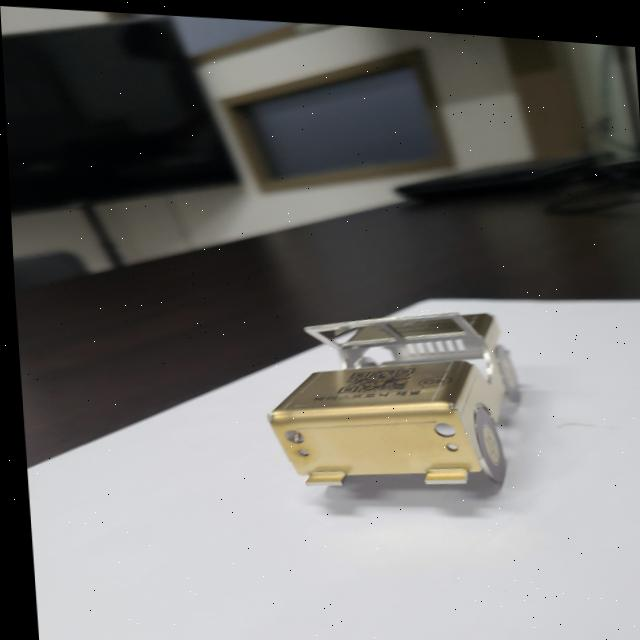tire: (469, 399, 502, 476), (492, 336, 517, 394)
